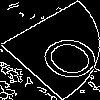O: (24, 25, 100, 86)
